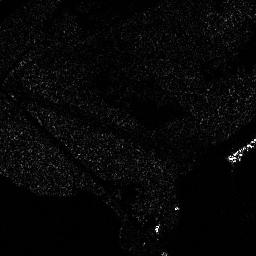ship: (227, 137, 256, 162)
